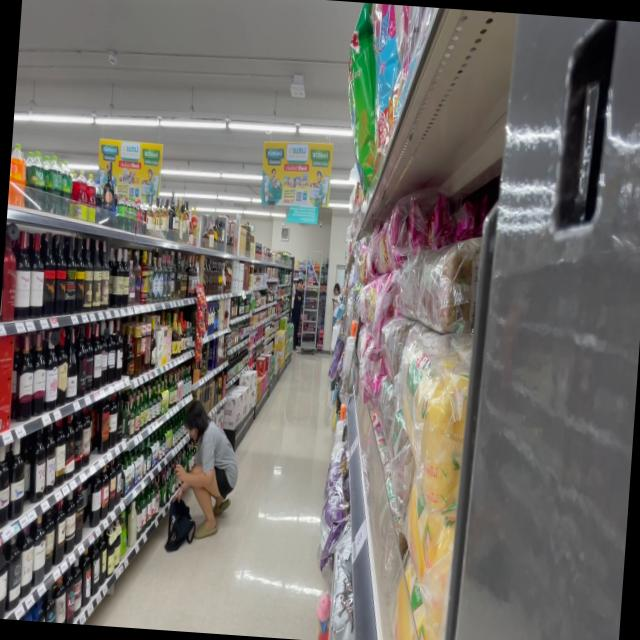shoplifting: (163, 390, 238, 554)
